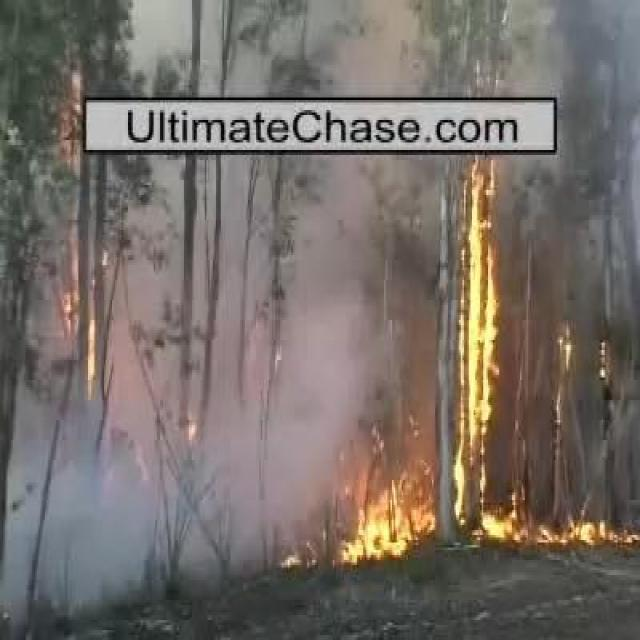Fire: (457, 165, 498, 510), (477, 501, 621, 549), (342, 491, 433, 561)
